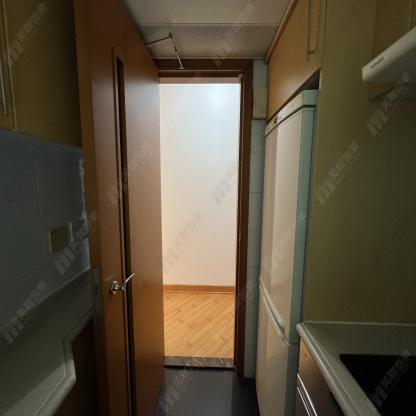Fridge: (255, 87, 321, 416), (256, 89, 319, 415)
